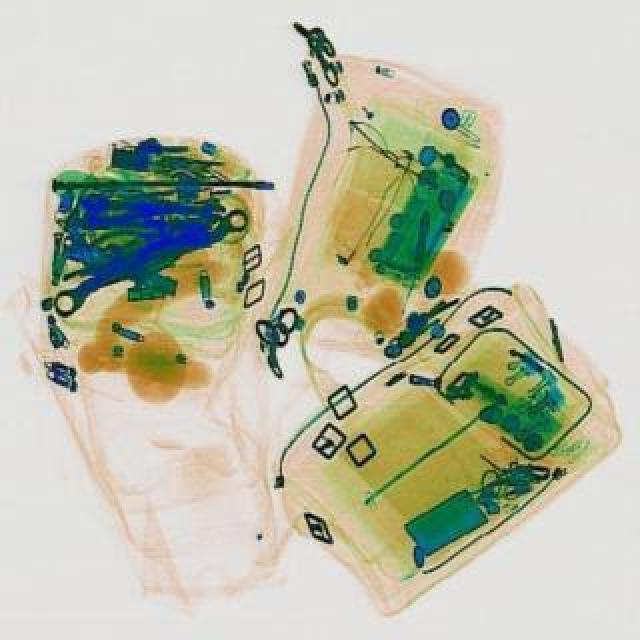scissors: (50, 208, 254, 324), (84, 190, 228, 232)
